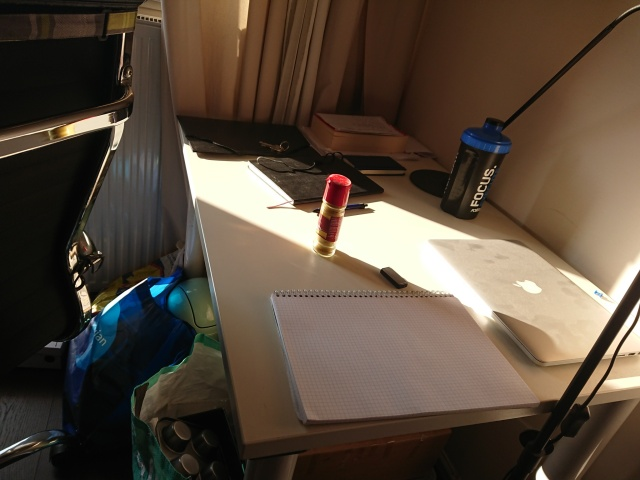Kotanyi Curry Spices Mix 70g: (310, 172, 354, 259)
